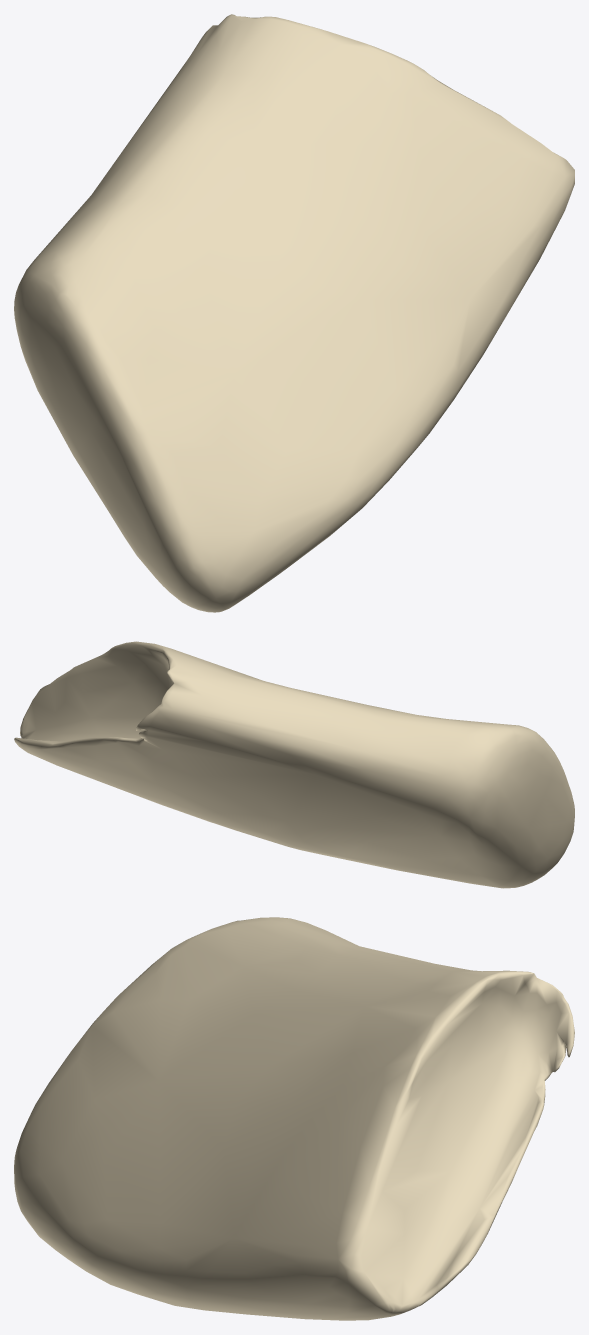
The model's file is esqueleto-costal-cartilage-of-first-rib-l.glb.
3 renders of one model, top to bottom at view 1: azimuth 30°, elevation 25°; view 2: azimuth 150°, elevation 25°; view 3: azimuth 270°, elevation 25°, orthographic. The views are drawn at different scales.
Parts seen in each view (by area): view 1: Costal cartilage of first rib.l; view 2: Costal cartilage of first rib.l; view 3: Costal cartilage of first rib.l.
Boxes of the visible parts, x1,y1,x2,y2 form: Costal cartilage of first rib.l: (14,14,574,612); Costal cartilage of first rib.l: (14,641,574,888); Costal cartilage of first rib.l: (14,917,574,1320).
Bounding box in the file's own units: 0.0306 × 0.019 × 0.0241.
